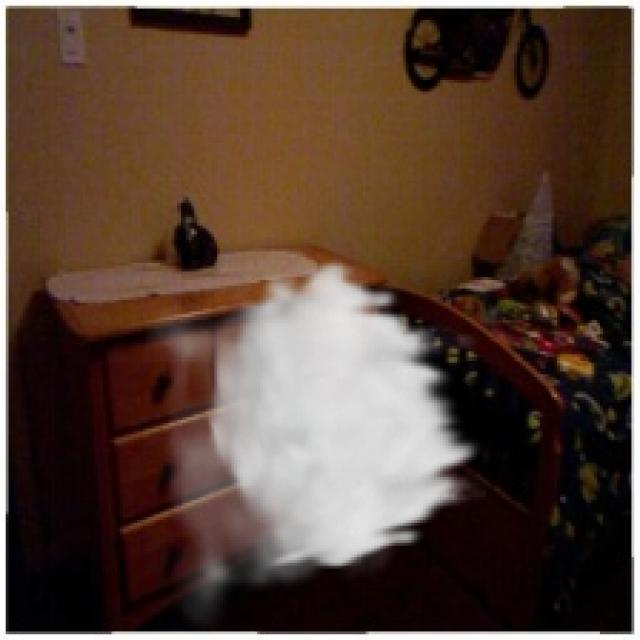smoke: (140, 257, 486, 637)
